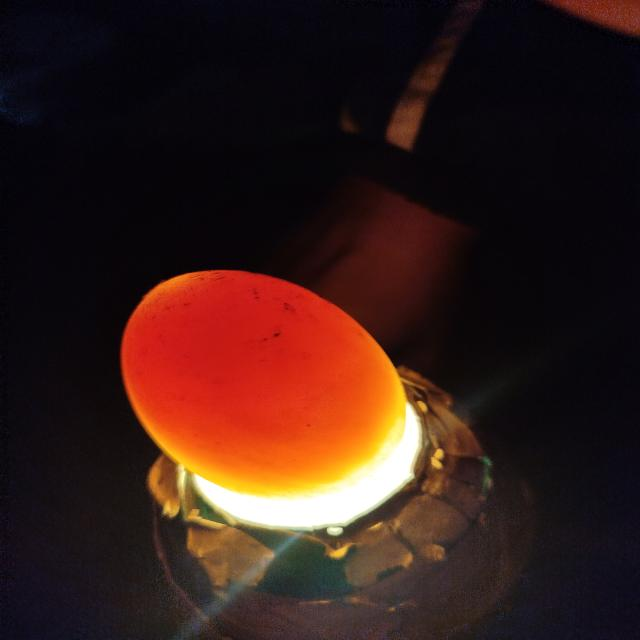Gema Quebrada: (127, 271, 397, 483)
